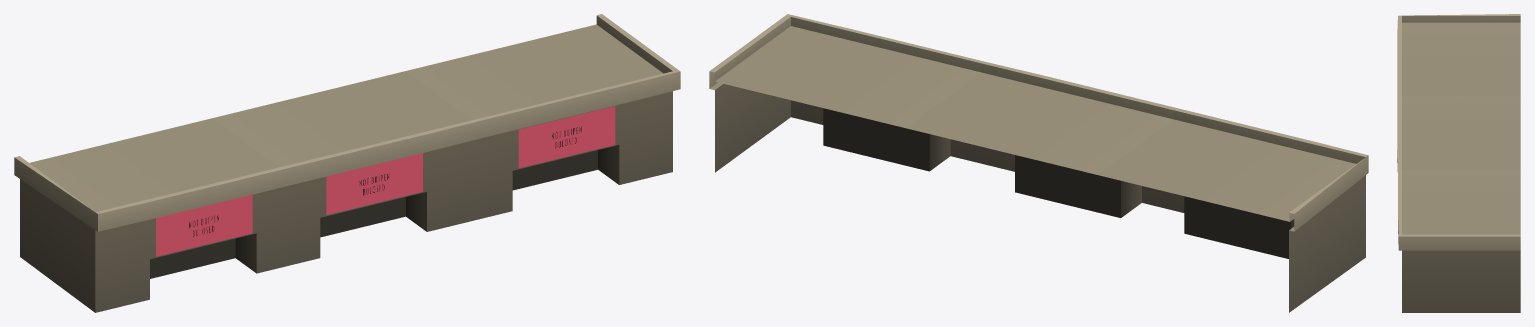
File: Wall building3.fbx
3 views of the same model, side by side, from view 1: azimuth 30°, elevation 25°; view 2: azimuth 150°, elevation 25°; view 3: azimuth 270°, elevation 25° (orthographic). The views are drawn at different scales.
Parts seen in each view (by area): view 1: Wall building3; view 2: Wall building3; view 3: Wall building3.
Boxes of the visible parts, x1,y1,x2,y2 form: Wall building3: [14, 14, 680, 312]; Wall building3: [709, 14, 1368, 312]; Wall building3: [1397, 14, 1520, 312].
Bounding box in the file's own units: 35.98 × 5.9 × 8.43.
1 material, 1 textured.
